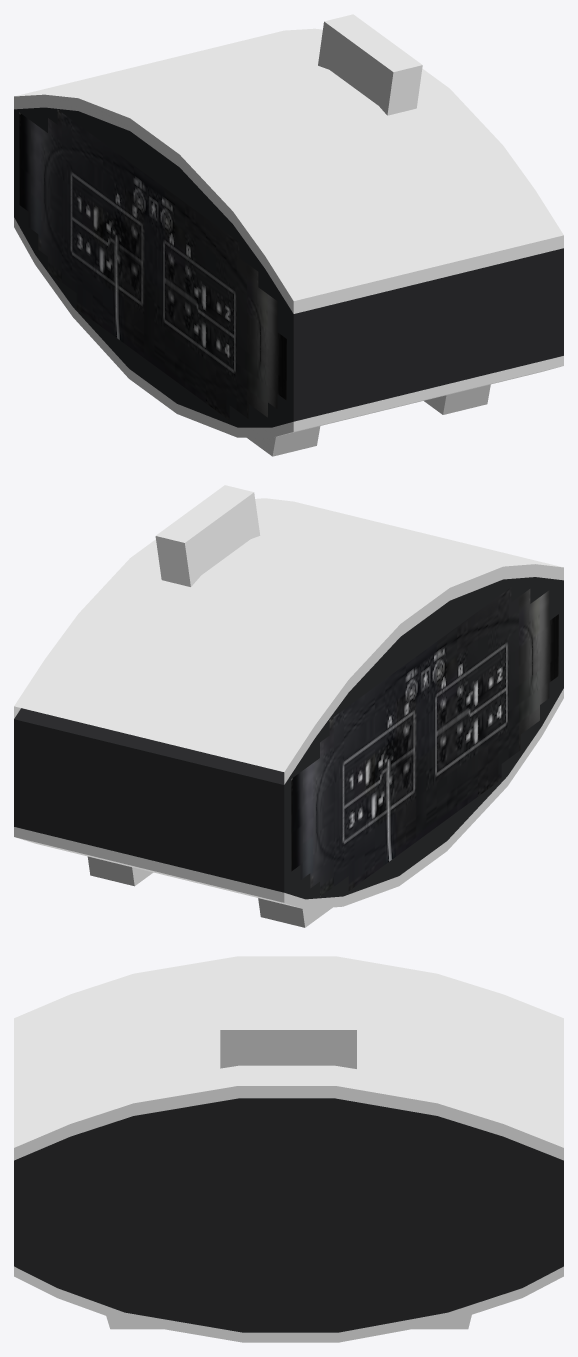
The model's file is ice_fx.glb.
3 renders of one model, top to bottom at view 1: azimuth 30°, elevation 25°; view 2: azimuth 150°, elevation 25°; view 3: azimuth 270°, elevation 25°, orthographic.
Parts seen in each view (by area): view 1: top_body, icefx_front, main_body, Cube, bottom_body, back_legs, front_legs; view 2: top_body, main_body, icefx_front, Cube, bottom_body, back_legs, front_legs; view 3: main_body, top_body, Cube, bottom_body, front_legs.
Part boxes in pixels (x1,y1,x2,y2): top_body: (14,28,563,313); icefx_front: (19,110,286,420); main_body: (14,107,563,427); Cube: (318,14,422,115); bottom_body: (14,217,563,437); back_legs: (247,426,320,456); front_legs: (424,384,490,414); top_body: (14,498,563,784); main_body: (14,577,563,899); icefx_front: (291,587,558,896); Cube: (155,485,260,586); bottom_body: (14,688,563,909); back_legs: (258,898,332,927); front_legs: (87,856,153,886); main_body: (14,1098,563,1332); top_body: (14,956,563,1160); Cube: (220,1016,356,1068); bottom_body: (14,1266,563,1342); front_legs: (106,1315,471,1329).
Size of the model in its own units: 2.01 by 2.12 by 3.59.
3 materials, 1 textured.
